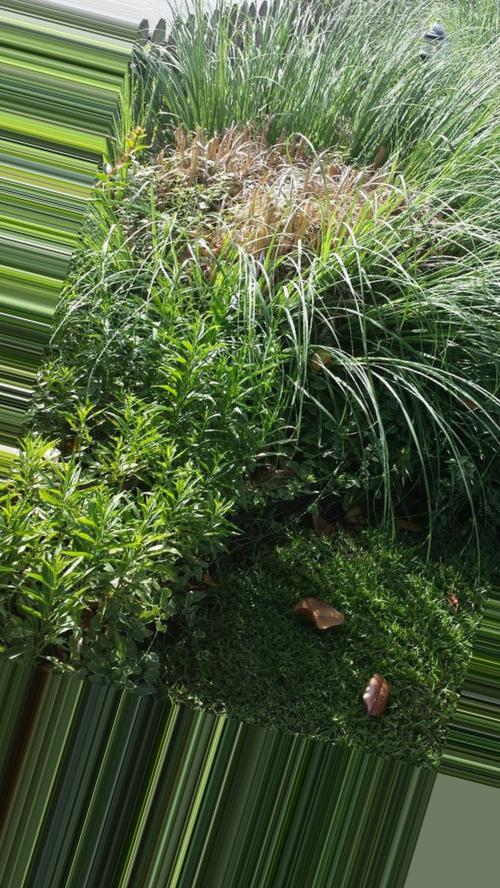patch: (151, 150, 272, 208), (288, 164, 345, 202), (204, 219, 269, 241)
